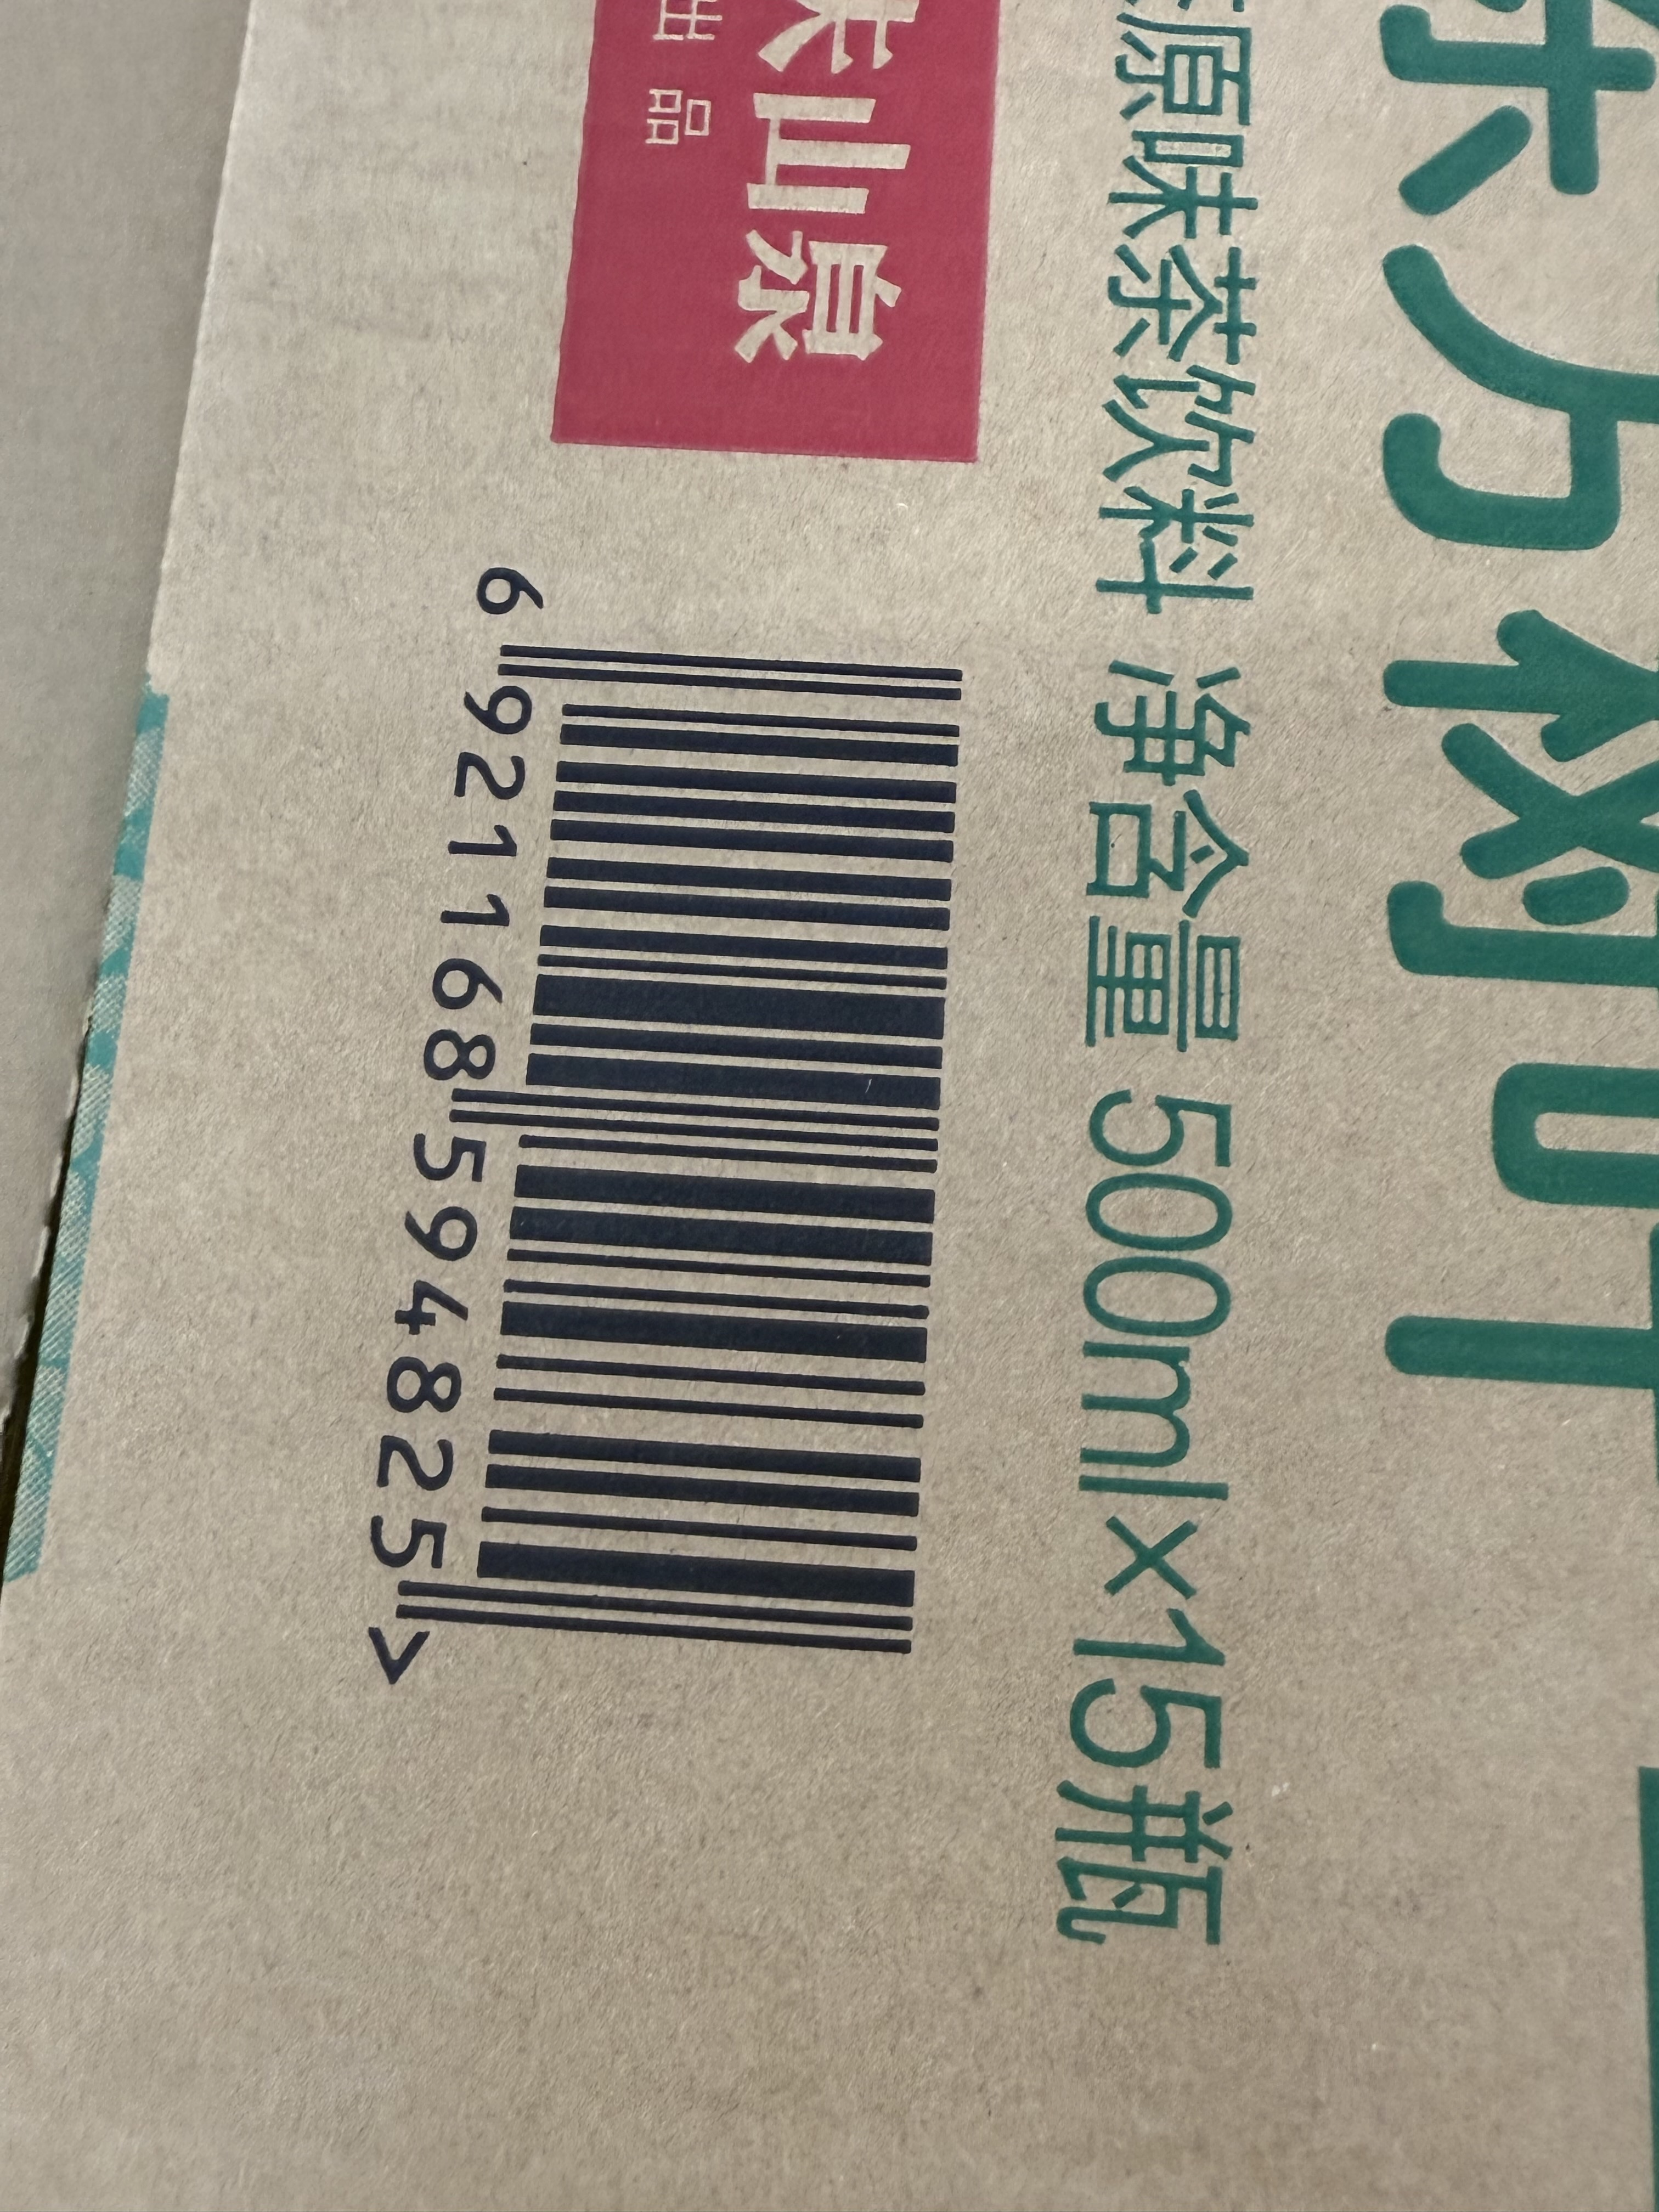bar: (375, 632, 971, 1669)
